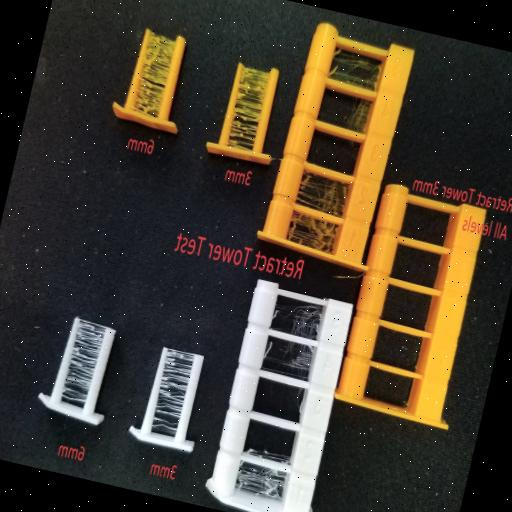stringing: (62, 319, 104, 406), (152, 346, 193, 435), (228, 64, 269, 147), (134, 31, 174, 112), (295, 172, 348, 215), (328, 49, 380, 89), (234, 467, 288, 504), (286, 213, 337, 252), (242, 442, 293, 469), (289, 303, 322, 338), (279, 349, 313, 377), (345, 99, 372, 133)
